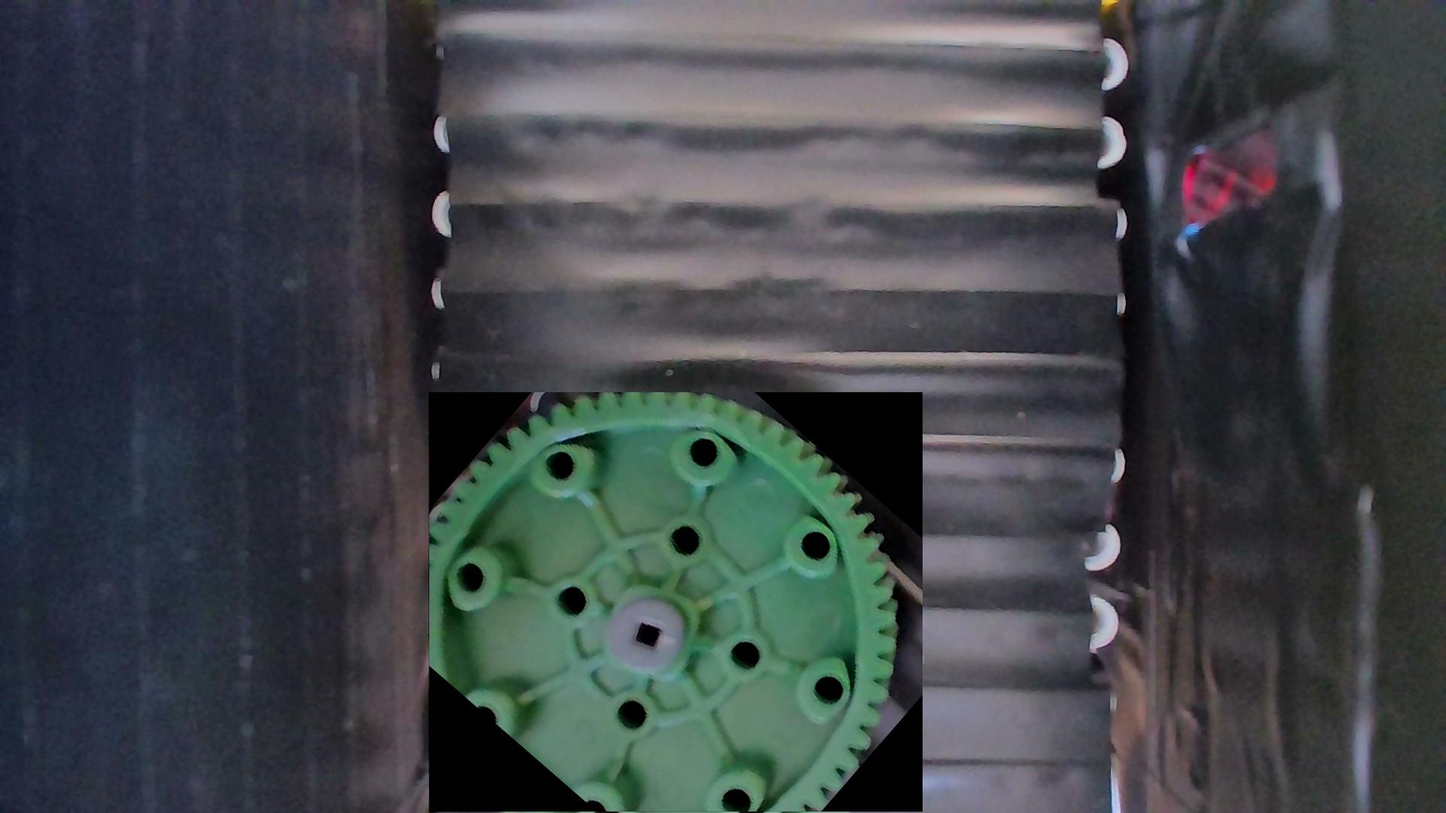gear: (428, 393, 922, 813)
